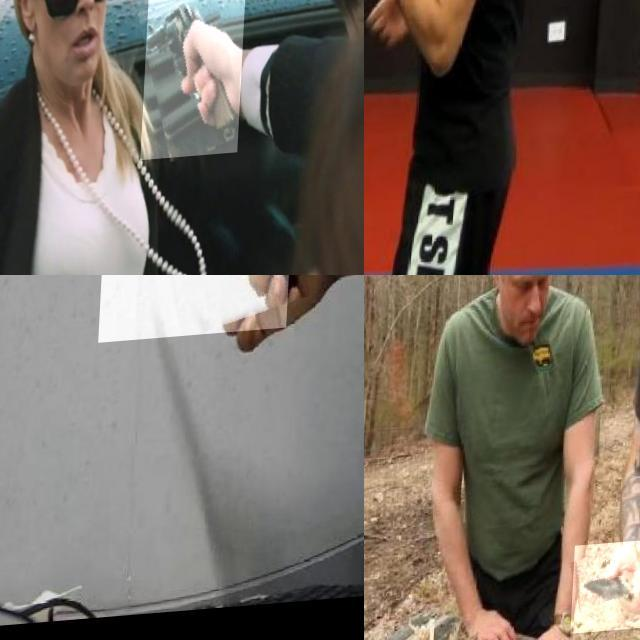-: (102, 275, 305, 447), (576, 545, 640, 638), (364, 76, 416, 155)
gun-knife-thesis - v11 Yolov5 augmented: (144, 0, 247, 165)
